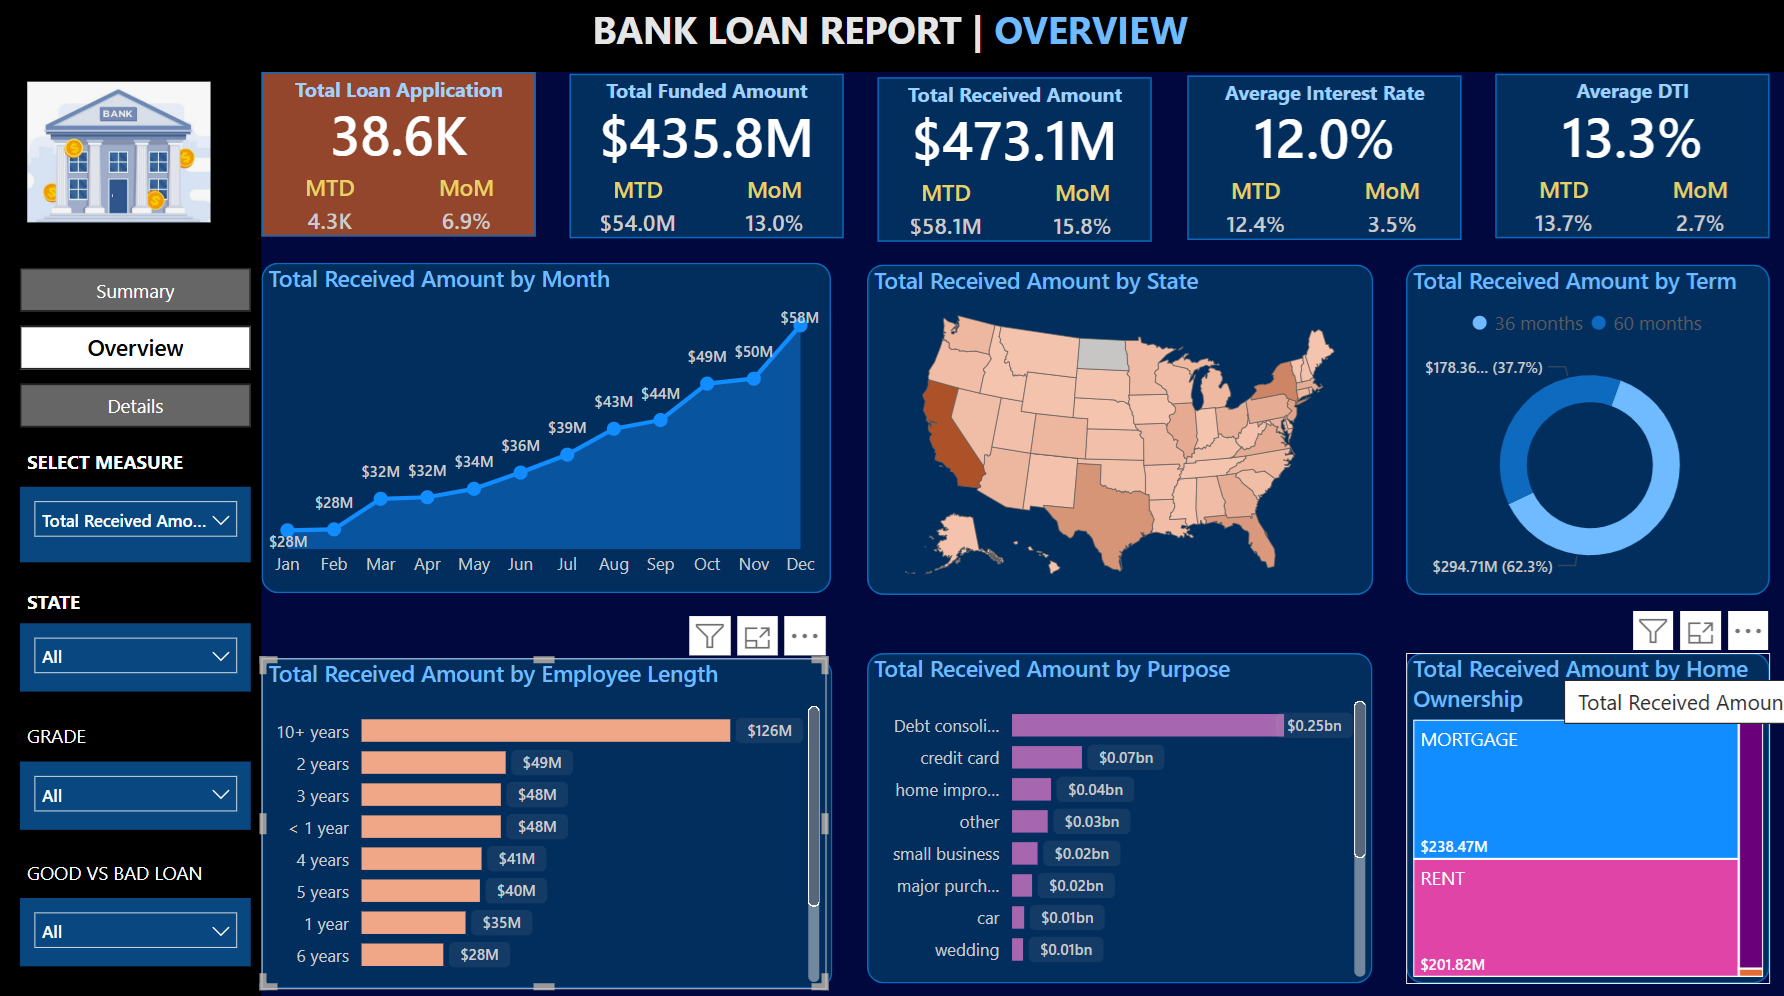

What the dashboard file says about the page in this screenshot:
{"tool":"powerbi","page":{"name":"Overview","canvas":[1280,720],"ordinal":1},"visuals":[{"type":"shape","box":[0,0,1279.8,54.7],"z":0},{"type":"shape","box":[0,51,191.5,665.4],"z":1000},{"type":"textbox","box":[421.6,1.2,495,51],"z":2000},{"type":"shape","box":[191.5,54.7,195,117],"z":2000,"group":"g1"},{"type":"shape","box":[410.8,56,195,117],"z":2000,"group":"g2"},{"type":"shape","box":[1068.4,56,195,117],"z":2000,"group":"g5"},{"type":"shape","box":[849.2,57.2,195,117],"z":2000,"group":"g4"},{"type":"shape","box":[630,58.5,195,117],"z":2000,"group":"g3"},{"type":"group","id":"g1","title":"Group 1","box":[191.5,52.2,195.3,119.5],"z":3000},{"type":"card","fields":{"Values":["financial_loan.Total Loan Application"]},"box":[191.5,70.9,195.3,54.7],"z":4000,"group":"g1"},{"type":"card","fields":{"Values":["financial_loan.Total Funded Amount"]},"box":[410.8,72.2,195.3,54.7],"z":4000,"group":"g2"},{"type":"card","fields":{"Values":["financial_loan.Average DTI"]},"box":[1068.4,72.2,195.3,54.7],"z":4000,"group":"g5"},{"type":"card","fields":{"Values":["financial_loan.Average Interest Rate"]},"box":[849.2,73.4,195.3,54.7],"z":4000,"group":"g4"},{"type":"card","fields":{"Values":["financial_loan.Total Received Amount"]},"box":[630,74.7,195.3,54.7],"z":4000,"group":"g3"},{"type":"shape","box":[191.5,190.3,405,235],"z":4000},{"type":"textbox","box":[191.5,52.2,195.3,36.1],"z":5000,"group":"g1"},{"type":"group","id":"g2","title":"Group 1","box":[410.8,53.5,195.3,119.4],"z":5000},{"type":"textbox","box":[410.8,53.5,195.3,36.1],"z":5000,"group":"g2"},{"type":"textbox","box":[1068.4,53.5,195.3,36.1],"z":5000,"group":"g5"},{"type":"textbox","box":[849.2,54.7,195.3,36.1],"z":5000,"group":"g4"},{"type":"textbox","box":[630,56,195.3,36.1],"z":5000,"group":"g3"},{"type":"group","id":"g3","title":"Group 1","box":[630,56,195.3,119.4],"z":6000},{"type":"card","title":"MTD","fields":{"Values":["financial_loan.MTD Loan Application"]},"box":[202.7,125.6,74.6,44.8],"z":6000,"group":"g1"},{"type":"card","title":"MTD","fields":{"Values":["financial_loan.MTD Funded Amount"]},"box":[422,126.9,74.6,44.8],"z":6000,"group":"g2"},{"type":"card","title":"MTD","fields":{"Values":["financial_loan.MTD Avg DTI"]},"box":[1079.6,126.9,74.6,44.8],"z":6000,"group":"g5"},{"type":"card","title":"MTD","fields":{"Values":["financial_loan.MTD Avg Interest"]},"box":[860.4,128.1,74.6,44.8],"z":6000,"group":"g4"},{"type":"card","title":"MTD","fields":{"Values":["financial_loan.MTD Received Amount"]},"box":[641.2,129.4,74.6,44.8],"z":6000,"group":"g3"},{"type":"group","id":"g4","title":"Group 1","box":[849.2,54.7,195.3,119.4],"z":7000},{"type":"card","title":"MoM","fields":{"Values":["financial_loan.MoM Loan Application"]},"box":[299.7,125.6,74.6,44.8],"z":7000,"group":"g1"},{"type":"card","title":"MoM","fields":{"Values":["financial_loan.MoM Funded Amount"]},"box":[519,126.9,74.6,44.8],"z":7000,"group":"g2"},{"type":"card","title":"MoM","fields":{"Values":["financial_loan.MoM Avg DTI"]},"box":[1176.6,126.9,74.6,44.8],"z":7000,"group":"g5"},{"type":"card","title":"MoM","fields":{"Values":["financial_loan.MoM Avg Interest Rate"]},"box":[957.4,128.1,74.6,44.8],"z":7000,"group":"g4"},{"type":"card","title":"MoM","fields":{"Values":["financial_loan.MoM Received Amount"]},"box":[738.2,129.4,74.6,44.8],"z":7000,"group":"g3"},{"type":"group","id":"g5","title":"Group 1","box":[1068.4,53.5,195.3,119.4],"z":8000},{"type":"slicer","fields":{"Values":["financial_loan.address_state"]},"box":[19.4,446.3,164.2,48.5],"z":9000},{"type":"textbox","box":[19.4,416.5,164.2,32.3],"z":10000},{"type":"slicer","fields":{"Values":["financial_loan.grade"]},"box":[19.4,544.6,164.2,48.5],"z":11000},{"type":"slicer","fields":{"Values":["financial_loan.Good vs Bad Loan"]},"box":[19.4,641.6,164.2,48.5],"z":12000},{"type":"textbox","box":[19.4,512.2,164.2,32.3],"z":13000},{"type":"textbox","box":[19.4,609.3,164.2,32.3],"z":14000},{"type":"slicer","fields":{"Values":["Select Measure.Select Measure"]},"box":[19.4,349.3,164.2,53.5],"z":15000},{"type":"textbox","box":[19.4,317,164.2,32.3],"z":16000},{"type":"areaChart","fields":{"Y":["financial_loan.Total Received Amount"],"Category":["Date Table.Month"]},"box":[191.5,190.3,401.7,232.6],"z":17000},{"type":"shape","box":[621.9,191.5,360,235.1],"z":18000},{"type":"shapeMap","fields":{"Value":["financial_loan.Total Received Amount"],"Category":["financial_loan.address_state"]},"box":[621.9,191.5,359.4,235.1],"z":19000},{"type":"shape","box":[1005,191.5,258.7,235.1],"z":20000},{"type":"donutChart","fields":{"Y":["financial_loan.Total Received Amount"],"Category":["financial_loan.term"]},"box":[1005,191.5,261.2,235.1],"z":21000},{"type":"shape","box":[191.5,471.4,405.5,235.1],"z":22000},{"type":"barChart","fields":{"Y":["financial_loan.Total Received Amount"],"Category":["financial_loan.emp_length"]},"box":[191.5,471.4,401.7,235.1],"z":23000},{"type":"shape","box":[621.9,467.7,359.4,235.1],"z":24000},{"type":"barChart","fields":{"Y":["financial_loan.Total Received Amount"],"Category":["financial_loan.purpose"]},"box":[621.9,467.7,359.4,235.1],"z":25000},{"type":"shape","box":[1005,467.7,258.7,235.1],"z":26000},{"type":"treemap","fields":{"Values":["financial_loan.Total Received Amount"],"Group":["financial_loan.home_ownership"]},"box":[1005,467.7,258.7,235.1],"z":27000},{"type":"pageNavigator","box":[19.9,194,164.2,115.7],"z":28000},{"type":"image","box":[19.9,54.7,140.5,113.2],"z":29000}]}

Visuals, with their boxes in screenshot pixels (x1, y1, x2, y2), scaled from the page's 1280x720 canvas onto the 1784x996 screenshot:
shape: pyautogui.locateOnScreen(0, 0, 1783, 76)
shape: pyautogui.locateOnScreen(0, 71, 267, 991)
textbox: pyautogui.locateOnScreen(588, 2, 1278, 72)
shape: pyautogui.locateOnScreen(267, 76, 539, 238)
shape: pyautogui.locateOnScreen(573, 77, 844, 239)
shape: pyautogui.locateOnScreen(1489, 77, 1761, 239)
shape: pyautogui.locateOnScreen(1184, 79, 1455, 241)
shape: pyautogui.locateOnScreen(878, 81, 1150, 243)
"Group 1" group: pyautogui.locateOnScreen(267, 72, 539, 238)
card - financial_loan.Total Loan Application: pyautogui.locateOnScreen(267, 98, 539, 174)
card - financial_loan.Total Funded Amount: pyautogui.locateOnScreen(573, 100, 845, 176)
card - financial_loan.Average DTI: pyautogui.locateOnScreen(1489, 100, 1761, 176)
card - financial_loan.Average Interest Rate: pyautogui.locateOnScreen(1184, 102, 1456, 177)
card - financial_loan.Total Received Amount: pyautogui.locateOnScreen(878, 103, 1150, 179)
shape: pyautogui.locateOnScreen(267, 263, 831, 588)
textbox: pyautogui.locateOnScreen(267, 72, 539, 122)
"Group 1" group: pyautogui.locateOnScreen(573, 74, 845, 239)
textbox: pyautogui.locateOnScreen(573, 74, 845, 124)
textbox: pyautogui.locateOnScreen(1489, 74, 1761, 124)
textbox: pyautogui.locateOnScreen(1184, 76, 1456, 126)
textbox: pyautogui.locateOnScreen(878, 77, 1150, 127)
"Group 1" group: pyautogui.locateOnScreen(878, 77, 1150, 243)
"MTD" card: pyautogui.locateOnScreen(283, 174, 386, 236)
"MTD" card: pyautogui.locateOnScreen(588, 176, 692, 238)
"MTD" card: pyautogui.locateOnScreen(1505, 176, 1609, 238)
"MTD" card: pyautogui.locateOnScreen(1199, 177, 1303, 239)
"MTD" card: pyautogui.locateOnScreen(894, 179, 998, 241)
"Group 1" group: pyautogui.locateOnScreen(1184, 76, 1456, 241)
"MoM" card: pyautogui.locateOnScreen(418, 174, 522, 236)
"MoM" card: pyautogui.locateOnScreen(723, 176, 827, 238)
"MoM" card: pyautogui.locateOnScreen(1640, 176, 1744, 238)
"MoM" card: pyautogui.locateOnScreen(1334, 177, 1438, 239)
"MoM" card: pyautogui.locateOnScreen(1029, 179, 1133, 241)
"Group 1" group: pyautogui.locateOnScreen(1489, 74, 1761, 239)
slicer - financial_loan.address_state: pyautogui.locateOnScreen(27, 617, 256, 684)
textbox: pyautogui.locateOnScreen(27, 576, 256, 621)
slicer - financial_loan.grade: pyautogui.locateOnScreen(27, 753, 256, 820)
slicer - financial_loan.Good vs Bad Loan: pyautogui.locateOnScreen(27, 888, 256, 955)
textbox: pyautogui.locateOnScreen(27, 709, 256, 753)
textbox: pyautogui.locateOnScreen(27, 843, 256, 888)
slicer - Select Measure.Select Measure: pyautogui.locateOnScreen(27, 483, 256, 557)
textbox: pyautogui.locateOnScreen(27, 439, 256, 483)
areaChart - financial_loan.Total Received Amount x Date Table.Month: pyautogui.locateOnScreen(267, 263, 827, 585)
shape: pyautogui.locateOnScreen(867, 265, 1369, 590)
shapeMap - financial_loan.Total Received Amount x financial_loan.address_state: pyautogui.locateOnScreen(867, 265, 1368, 590)
shape: pyautogui.locateOnScreen(1401, 265, 1761, 590)
donutChart - financial_loan.Total Received Amount x financial_loan.term: pyautogui.locateOnScreen(1401, 265, 1765, 590)
shape: pyautogui.locateOnScreen(267, 652, 832, 977)
barChart - financial_loan.Total Received Amount x financial_loan.emp_length: pyautogui.locateOnScreen(267, 652, 827, 977)
shape: pyautogui.locateOnScreen(867, 647, 1368, 972)
barChart - financial_loan.Total Received Amount x financial_loan.purpose: pyautogui.locateOnScreen(867, 647, 1368, 972)
shape: pyautogui.locateOnScreen(1401, 647, 1761, 972)
treemap - financial_loan.Total Received Amount x financial_loan.home_ownership: pyautogui.locateOnScreen(1401, 647, 1761, 972)
pageNavigator: pyautogui.locateOnScreen(28, 268, 257, 428)
image: pyautogui.locateOnScreen(28, 76, 224, 232)
